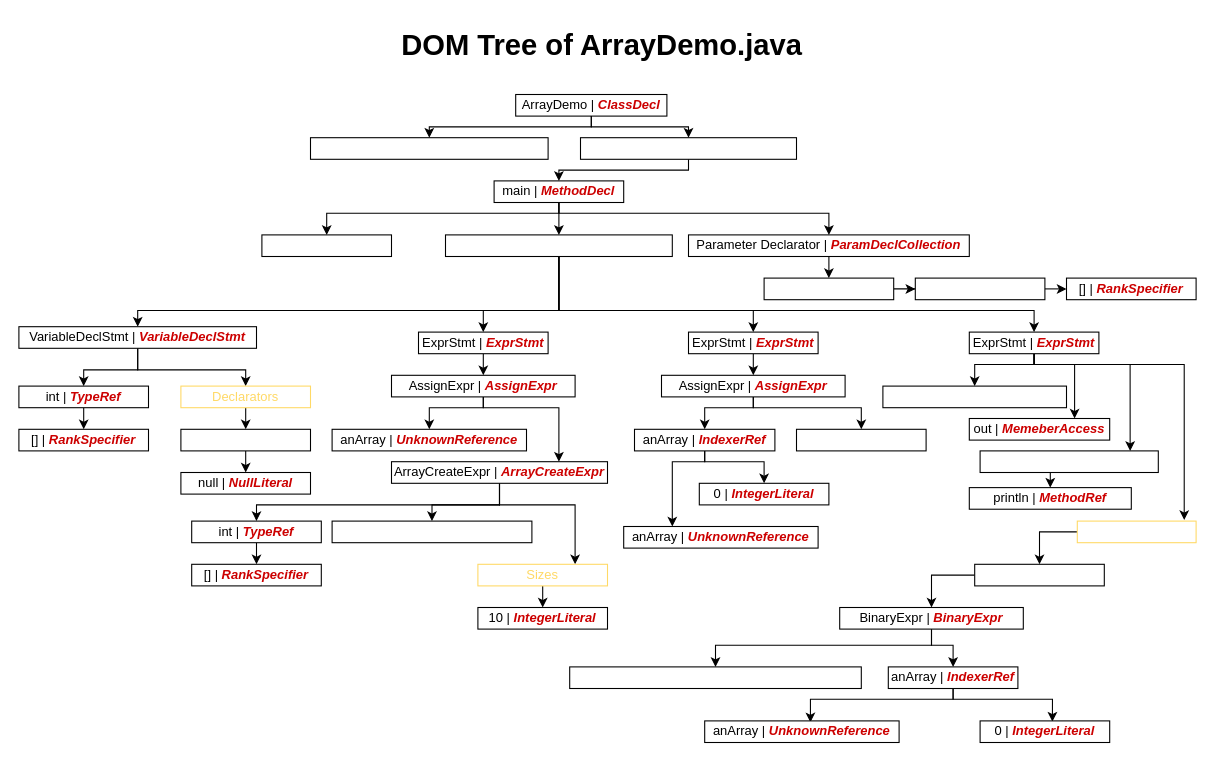
The diagram is 1215 pixels wide and 761 high, and some of its shapes have lost their labels. The shapes that lost their labels are listed below. From the top down, each one's box as (x1, y1, x2, y2) in pixels, then its label:
(309, 137, 548, 159): Type References | TypeRefCollection
(579, 137, 796, 159): Members | MemberDeclCollection
(261, 234, 392, 256): void | TypeRef
(444, 234, 672, 256): Statements | StatementCollection
(763, 277, 894, 300): args | ParamDecl
(914, 277, 1045, 300): String | TypeRef
(882, 385, 1066, 408): System | UnknownReference
(180, 428, 310, 451): anArray | Declarator
(795, 428, 926, 451): 100 | IntegerLiteral
(979, 450, 1158, 473): println | MethodInvokeExpr
(331, 520, 532, 543): ArrayInitializer | ArrayInitializer
(1076, 520, 1196, 543): Parameters
(974, 563, 1104, 586): Param | Param
(569, 666, 861, 688): “ Element at index 0: ” | StringLiteral
